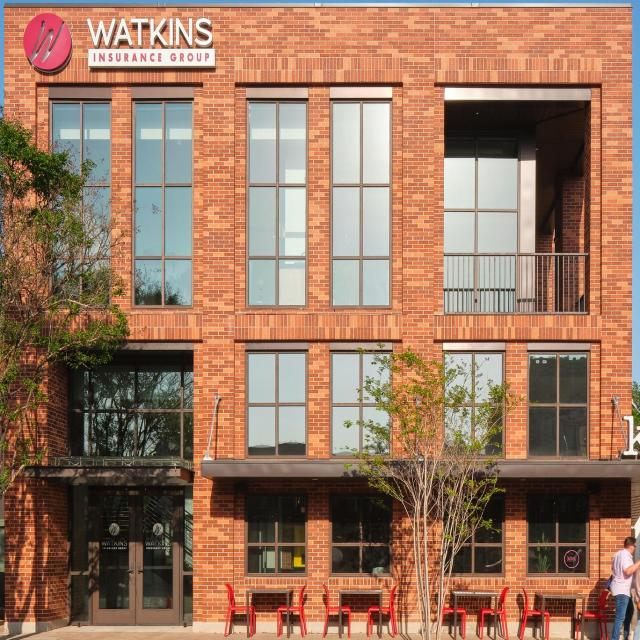door: (88, 486, 184, 627)
railing: (441, 251, 590, 314)
window: (71, 484, 193, 628), (49, 97, 111, 310), (133, 100, 195, 309), (329, 100, 391, 308), (245, 101, 307, 308), (73, 363, 193, 461), (445, 133, 521, 252), (529, 352, 590, 460), (442, 351, 504, 457), (247, 347, 305, 456), (330, 350, 390, 454), (331, 494, 389, 578), (248, 494, 306, 577), (445, 491, 503, 574), (528, 493, 586, 576)
